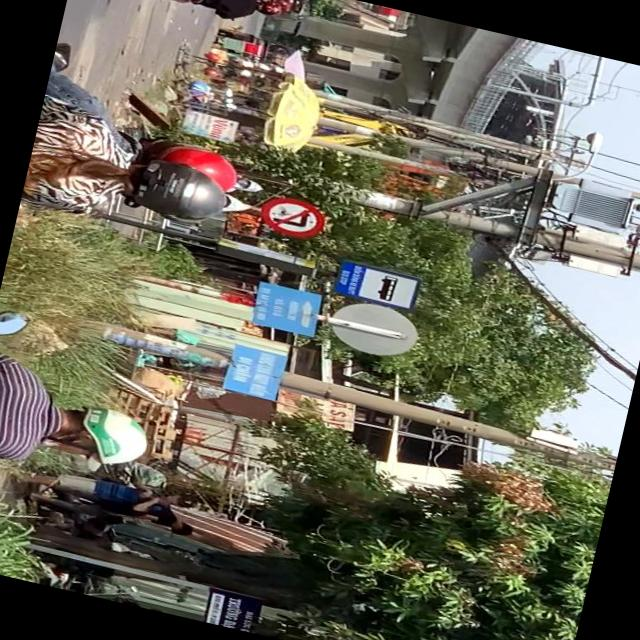I-434a: (328, 258, 420, 310)
P-123a: (253, 192, 327, 241)
